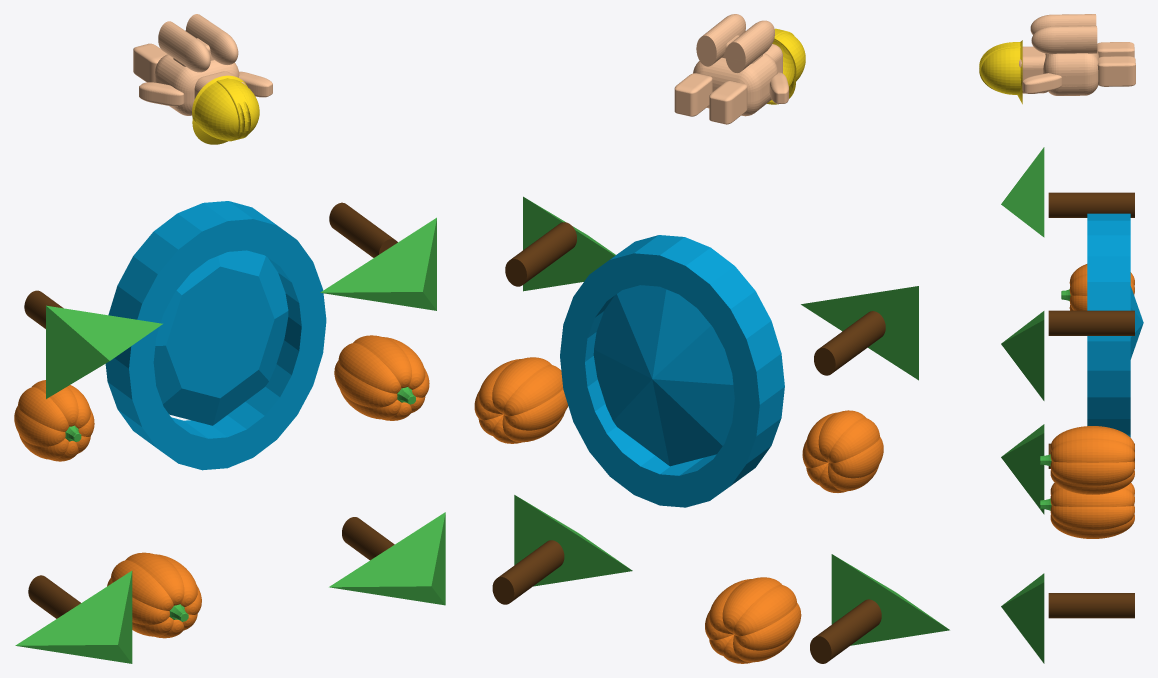
Rendered from tinker.obj.
3 renders of one model, left to right at view 1: azimuth 30°, elevation 25°; view 2: azimuth 150°, elevation 25°; view 3: azimuth 270°, elevation 25°, orthographic. The views are drawn at different scales.
Visible parts, largest first — view 1: group_0_40919, group_0_4634441, group_0_16089887, group_0_16500122, group_0_6306067, group_0_16768282; view 2: group_0_40919, group_0_16089887, group_0_4634441, group_0_6306067, group_0_16500122, group_0_16768282; view 3: group_0_16089887, group_0_40919, group_0_4634441, group_0_16500122, group_0_6306067, group_0_16768282.
Boxes of the visible parts, <box> form: group_0_40919: <box>105,201,326,470</box>; group_0_4634441: <box>15,217,445,663</box>; group_0_16089887: <box>14,335,429,638</box>; group_0_16500122: <box>133,14,272,115</box>; group_0_6306067: <box>24,202,397,618</box>; group_0_16768282: <box>192,75,259,144</box>; group_0_40919: <box>560,235,784,507</box>; group_0_16089887: <box>474,357,883,663</box>; group_0_4634441: <box>514,196,949,645</box>; group_0_6306067: <box>492,222,885,663</box>; group_0_16500122: <box>674,14,788,124</box>; group_0_16768282: <box>767,28,805,104</box>; group_0_16089887: <box>1050,264,1134,538</box>; group_0_40919: <box>1087,213,1143,437</box>; group_0_4634441: <box>1001,147,1070,663</box>; group_0_16500122: <box>1019,14,1135,95</box>; group_0_6306067: <box>1048,192,1134,618</box>; group_0_16768282: <box>979,40,1022,104</box>.
Bounding box in the file's own units: 101 × 139 × 38.
